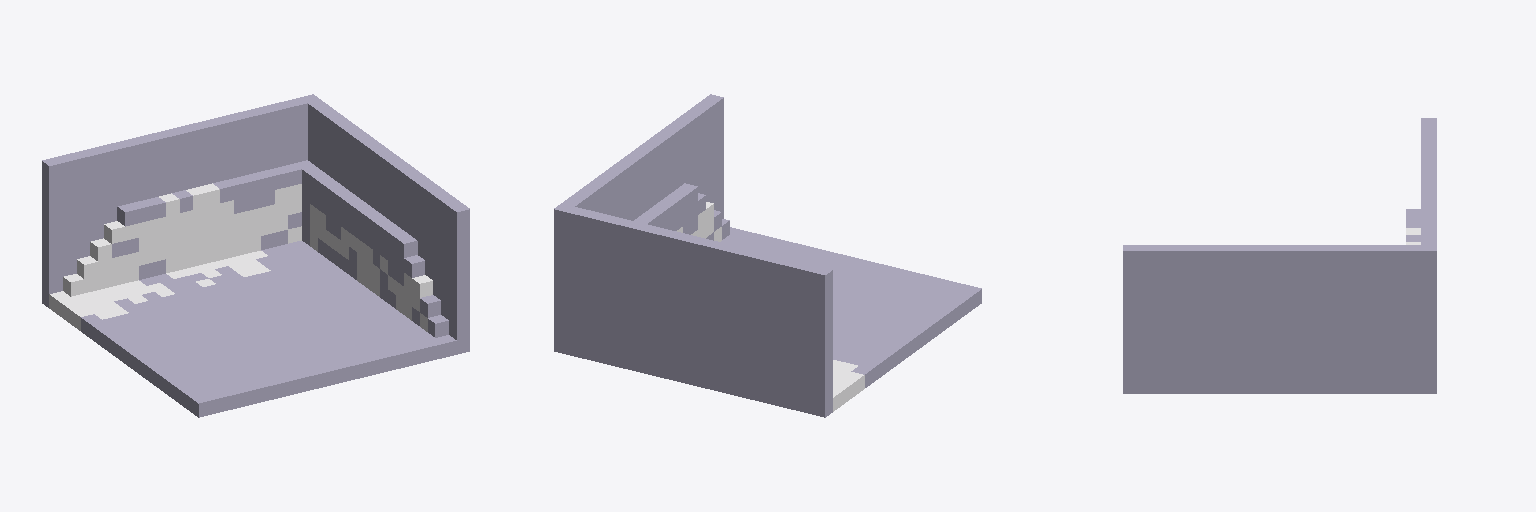
3 renders of one model, left to right at view 1: azimuth 30°, elevation 25°; view 2: azimuth 150°, elevation 25°; view 3: azimuth 270°, elevation 25°, orthographic.
Parts seen in each view (by area): view 1: object 1; view 2: object 1; view 3: object 1.
Boxes of the visible parts, x1=… form: object 1: x1=42, y1=94, x2=469, y2=417; object 1: x1=554, y1=94, x2=981, y2=417; object 1: x1=1123, y1=118, x2=1436, y2=393.
Bounding box in the file's own units: 2 × 1 × 2.
Materials: 1 (1 with a texture image).